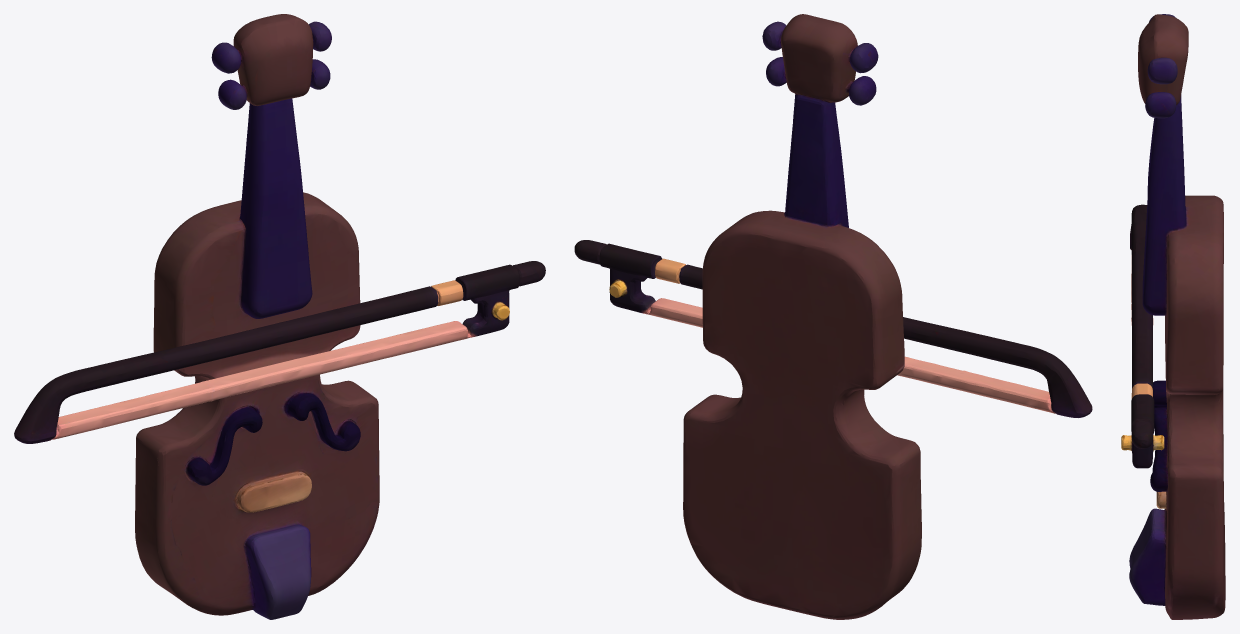
File: violin.glb
3 views of the same model, side by side, from view 1: azimuth 30°, elevation 25°; view 2: azimuth 150°, elevation 25°; view 3: azimuth 270°, elevation 25° (orthographic). The views are drawn at different scales.
Visible parts, largest first — view 1: model; view 2: model; view 3: model.
Part boxes in pixels (left/top/right/bottom): model: left=14, top=14, right=545, bottom=619; model: left=574, top=14, right=1092, bottom=619; model: left=1121, top=14, right=1225, bottom=619.
Size of the model in its own units: 0.9333 by 1 by 0.1643.
Materials: 1 (1 with a texture image).
